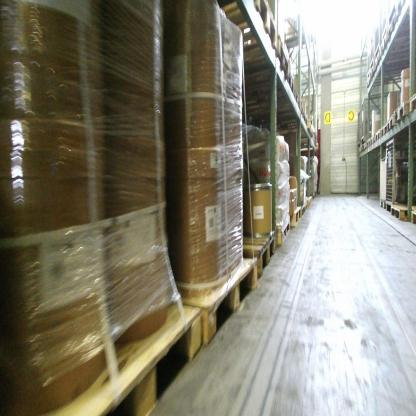pallets: (41, 243, 278, 415), (354, 92, 415, 154), (234, 1, 281, 55), (273, 195, 314, 249), (262, 42, 298, 97), (376, 196, 415, 232)
